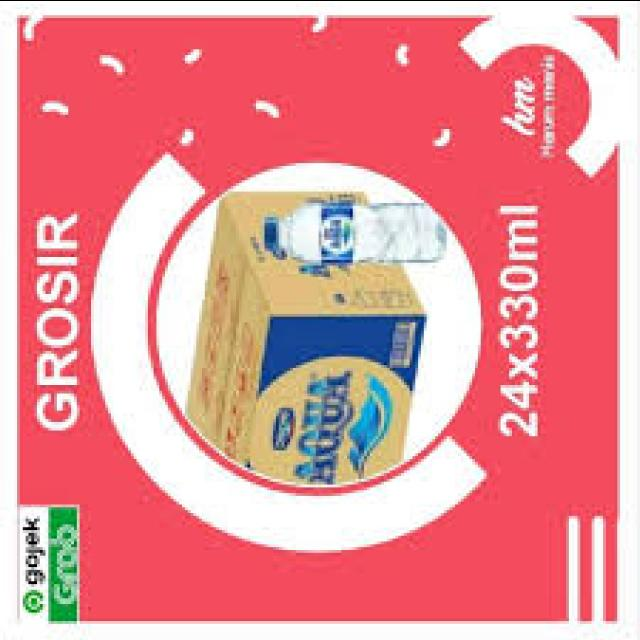寶特瓶: (261, 176, 455, 268)
